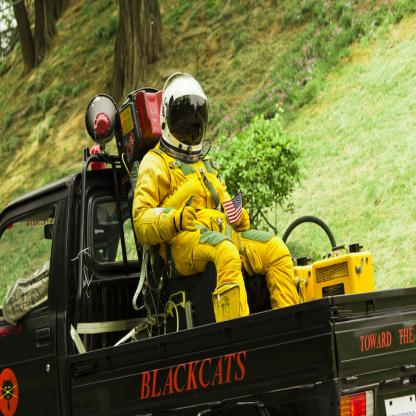Helmet: (157, 67, 210, 172)
